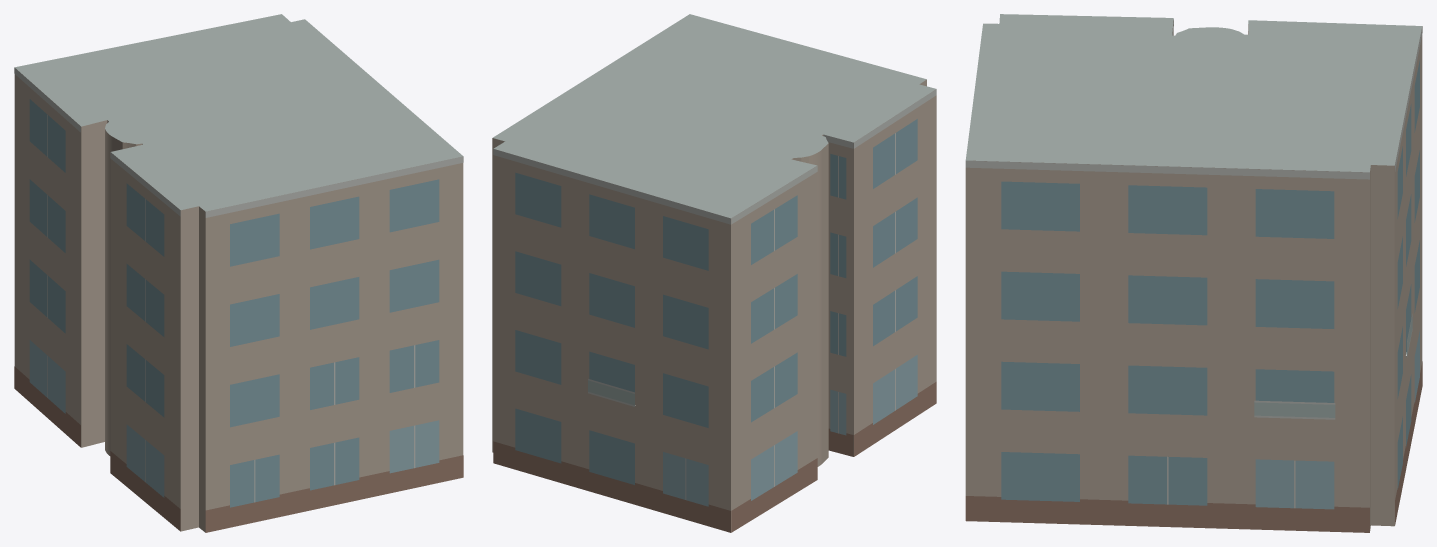
File: survey-upis-32663440.glb
The picture shows the model from 3 angles, left to right: view 1: azimuth 30°, elevation 25°; view 2: azimuth 150°, elevation 25°; view 3: azimuth 270°, elevation 25°; orthographic projection. The views are drawn at different scales.
Visible parts, largest first — view 1: survey-upis-32663440.tmp; view 2: survey-upis-32663440.tmp; view 3: survey-upis-32663440.tmp.
Boxes of the visible parts, left/top/right/bottom form: survey-upis-32663440.tmp: left=14, top=14, right=463, bottom=532; survey-upis-32663440.tmp: left=492, top=14, right=936, bottom=532; survey-upis-32663440.tmp: left=965, top=14, right=1422, bottom=532.
Size of the model in its own units: 11.5 by 12.2 by 14.02.
